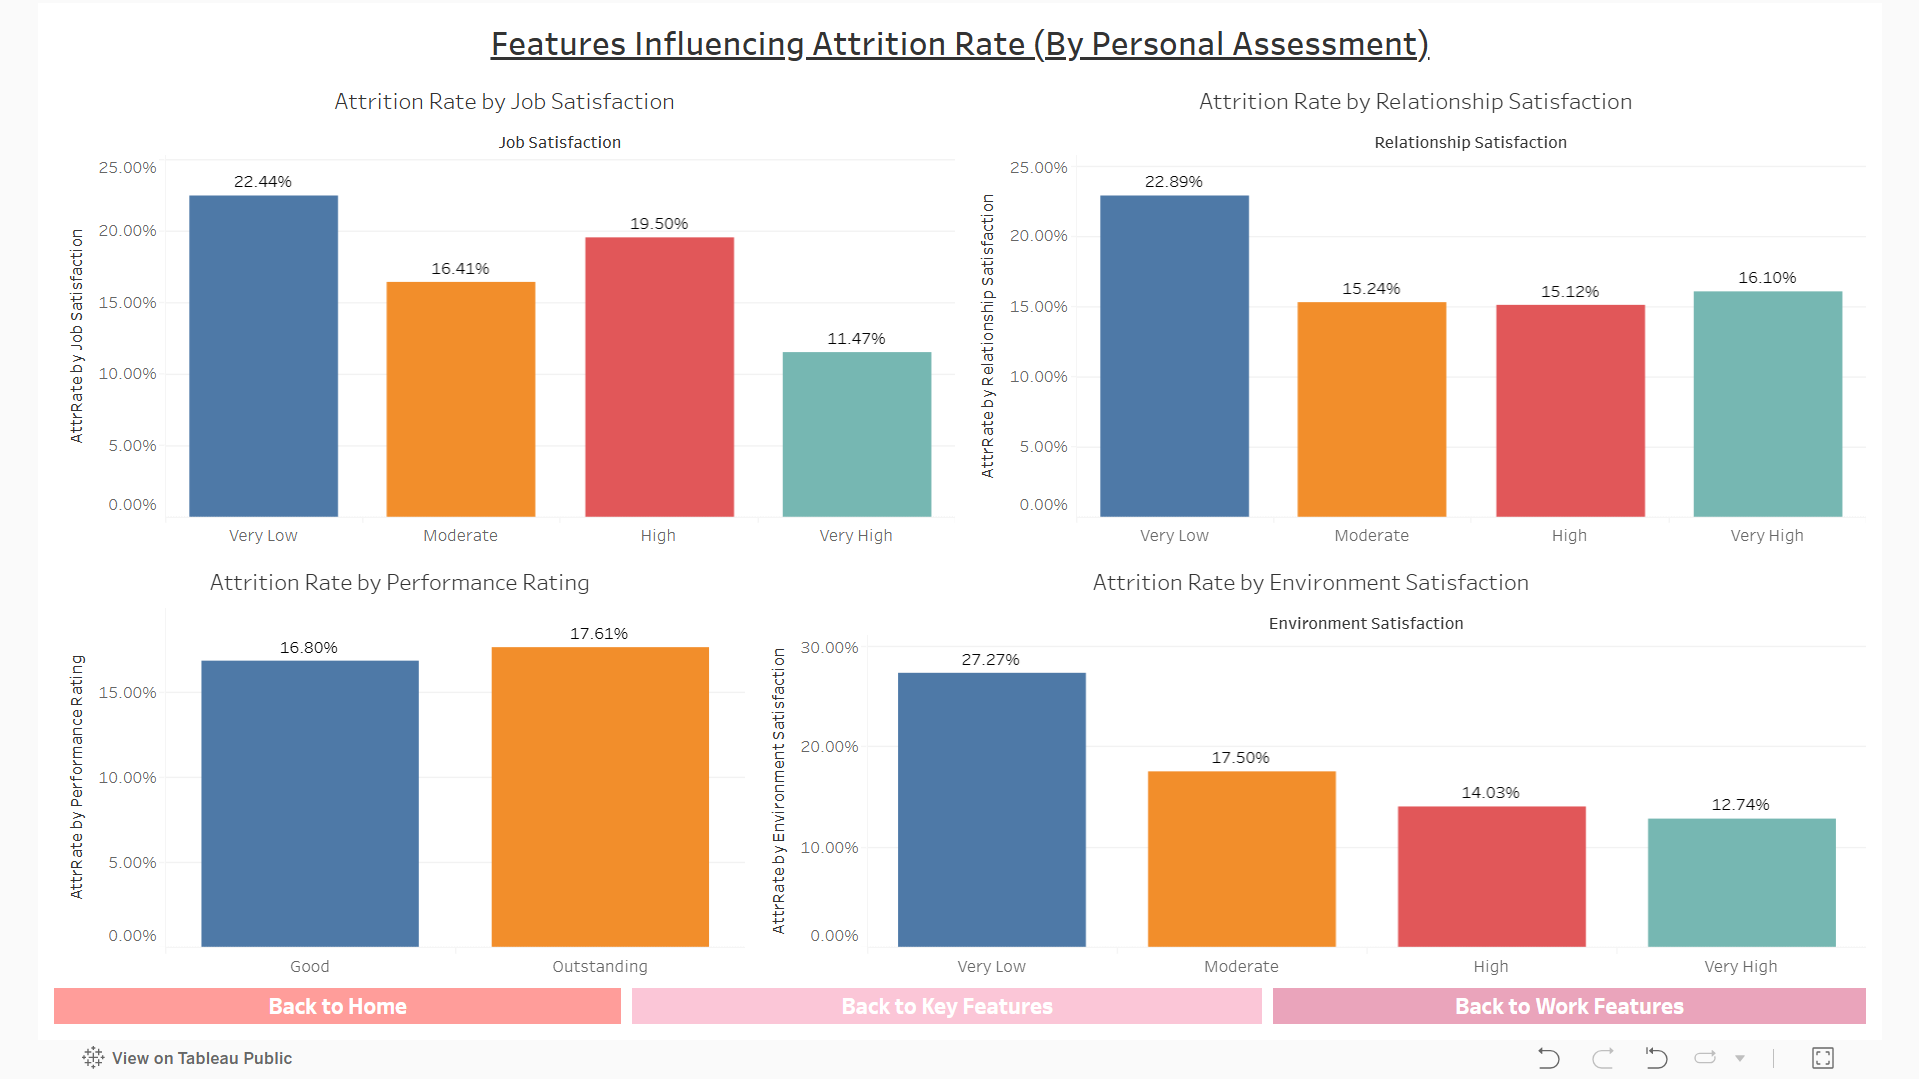

The page's visual inventory and layout, read from the dashboard file:
{"tool":"tableau","page":{"name":"see_personal","canvas":[1000,800],"ordinal":3},"visuals":[{"type":"title","box":[8,8,984,42]},{"type":"worksheet","title":"rate by job satisfaction","mark":"Automatic","rows":["Calculation_1055597563089006"],"cols":["JobSatisfaction"],"box":[8,50,492,372]},{"type":"worksheet","title":"rate by relationship satisfaction","mark":"Automatic","rows":["Calculation_1055597560942692"],"cols":["RelationshipSatisfaction"],"box":[500,50,492,372]},{"type":"worksheet","title":"rate by performance","mark":"Automatic","rows":["Calculation_1055597562003557"],"cols":["PerformanceRating"],"box":[8,422,379,333]},{"type":"worksheet","title":"by env satisfaction","mark":"Automatic","rows":["Calculation_1055597564686447"],"cols":["EnvironmentSatisfaction"],"box":[387,422,605,333]},{"type":"dashboard-object","box":[8,755,312,37]},{"type":"dashboard-object","box":[320,755,346,37]},{"type":"dashboard-object","box":[666,755,326,37]}]}

Visuals, with their boxes on the page's 1000x800 design canvas (x1, y1, x2, y2). These are canvas units, not pixel positions in the 1919x1079 screenshot, which may show the page scaled, cropped or inside an application window:
title: <bbox>8, 8, 992, 50</bbox>
"rate by job satisfaction" worksheet: <bbox>8, 50, 500, 422</bbox>
"rate by relationship satisfaction" worksheet: <bbox>500, 50, 992, 422</bbox>
"rate by performance" worksheet: <bbox>8, 422, 387, 755</bbox>
"by env satisfaction" worksheet: <bbox>387, 422, 992, 755</bbox>
dashboard-object: <bbox>8, 755, 320, 792</bbox>
dashboard-object: <bbox>320, 755, 666, 792</bbox>
dashboard-object: <bbox>666, 755, 992, 792</bbox>
